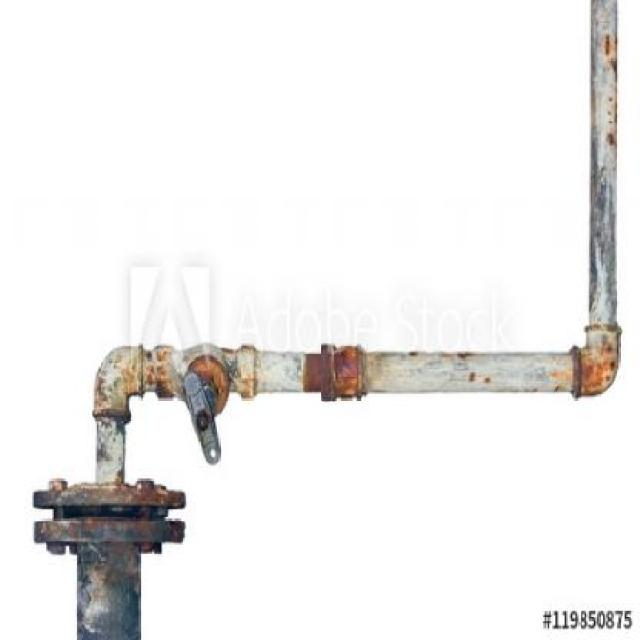corrosion: (203, 336, 615, 462), (33, 323, 192, 640), (582, 8, 622, 320)
